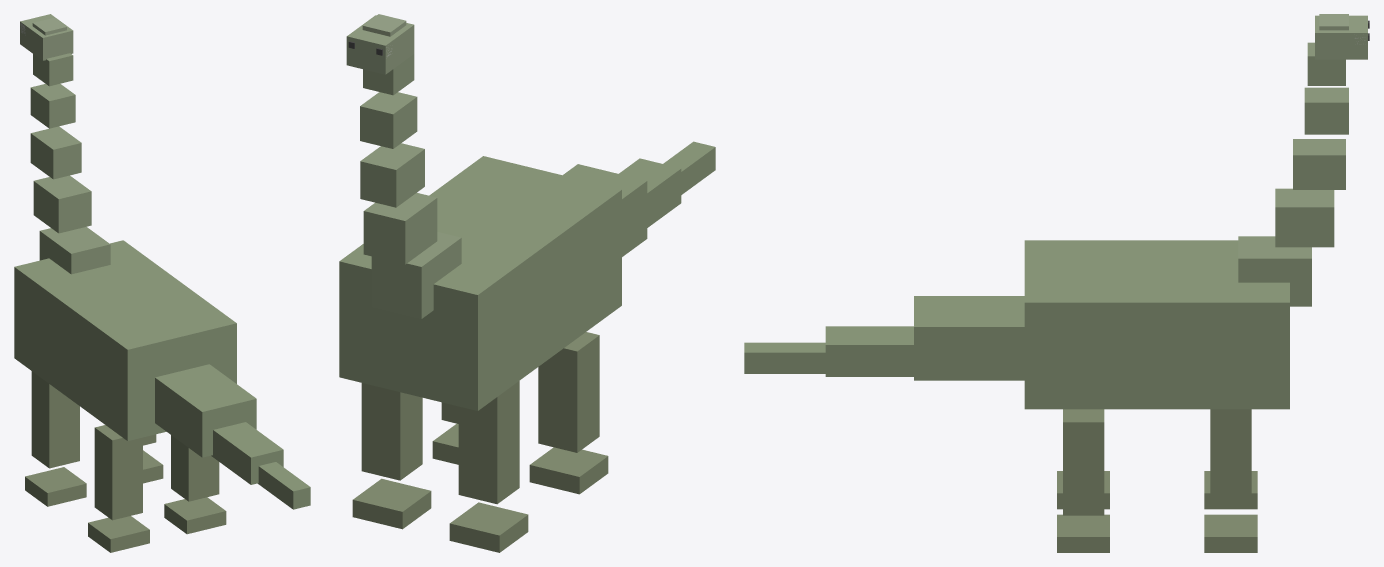
Rendered from brachiosaurus.glb.
3 views of the same model, side by side, from view 1: azimuth 30°, elevation 25°; view 2: azimuth 150°, elevation 25°; view 3: azimuth 270°, elevation 25° (orthographic). The views are drawn at different scales.
Visible parts, largest first — view 1: Dinosaur; view 2: Dinosaur; view 3: Dinosaur.
Boxes of the visible parts, <box> form: Dinosaur: <box>14,14,310,552</box>; Dinosaur: <box>339,14,715,552</box>; Dinosaur: <box>744,14,1369,552</box>.
Size of the model in its own units: 1.06 by 3.74 by 4.24.
